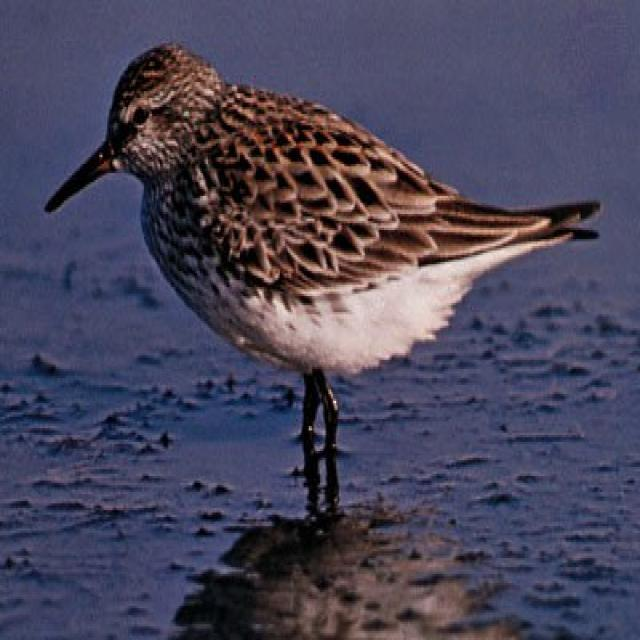sandpiper: (45, 43, 595, 437)
